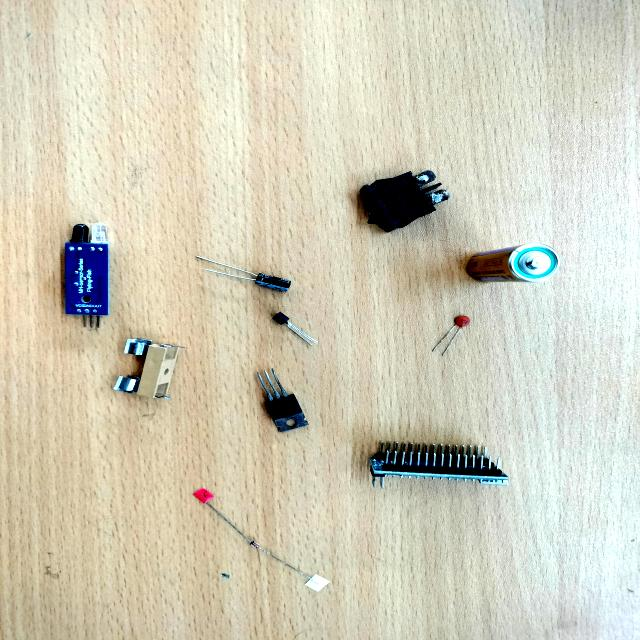capacitor: (253, 273, 291, 293), (454, 315, 470, 327)
